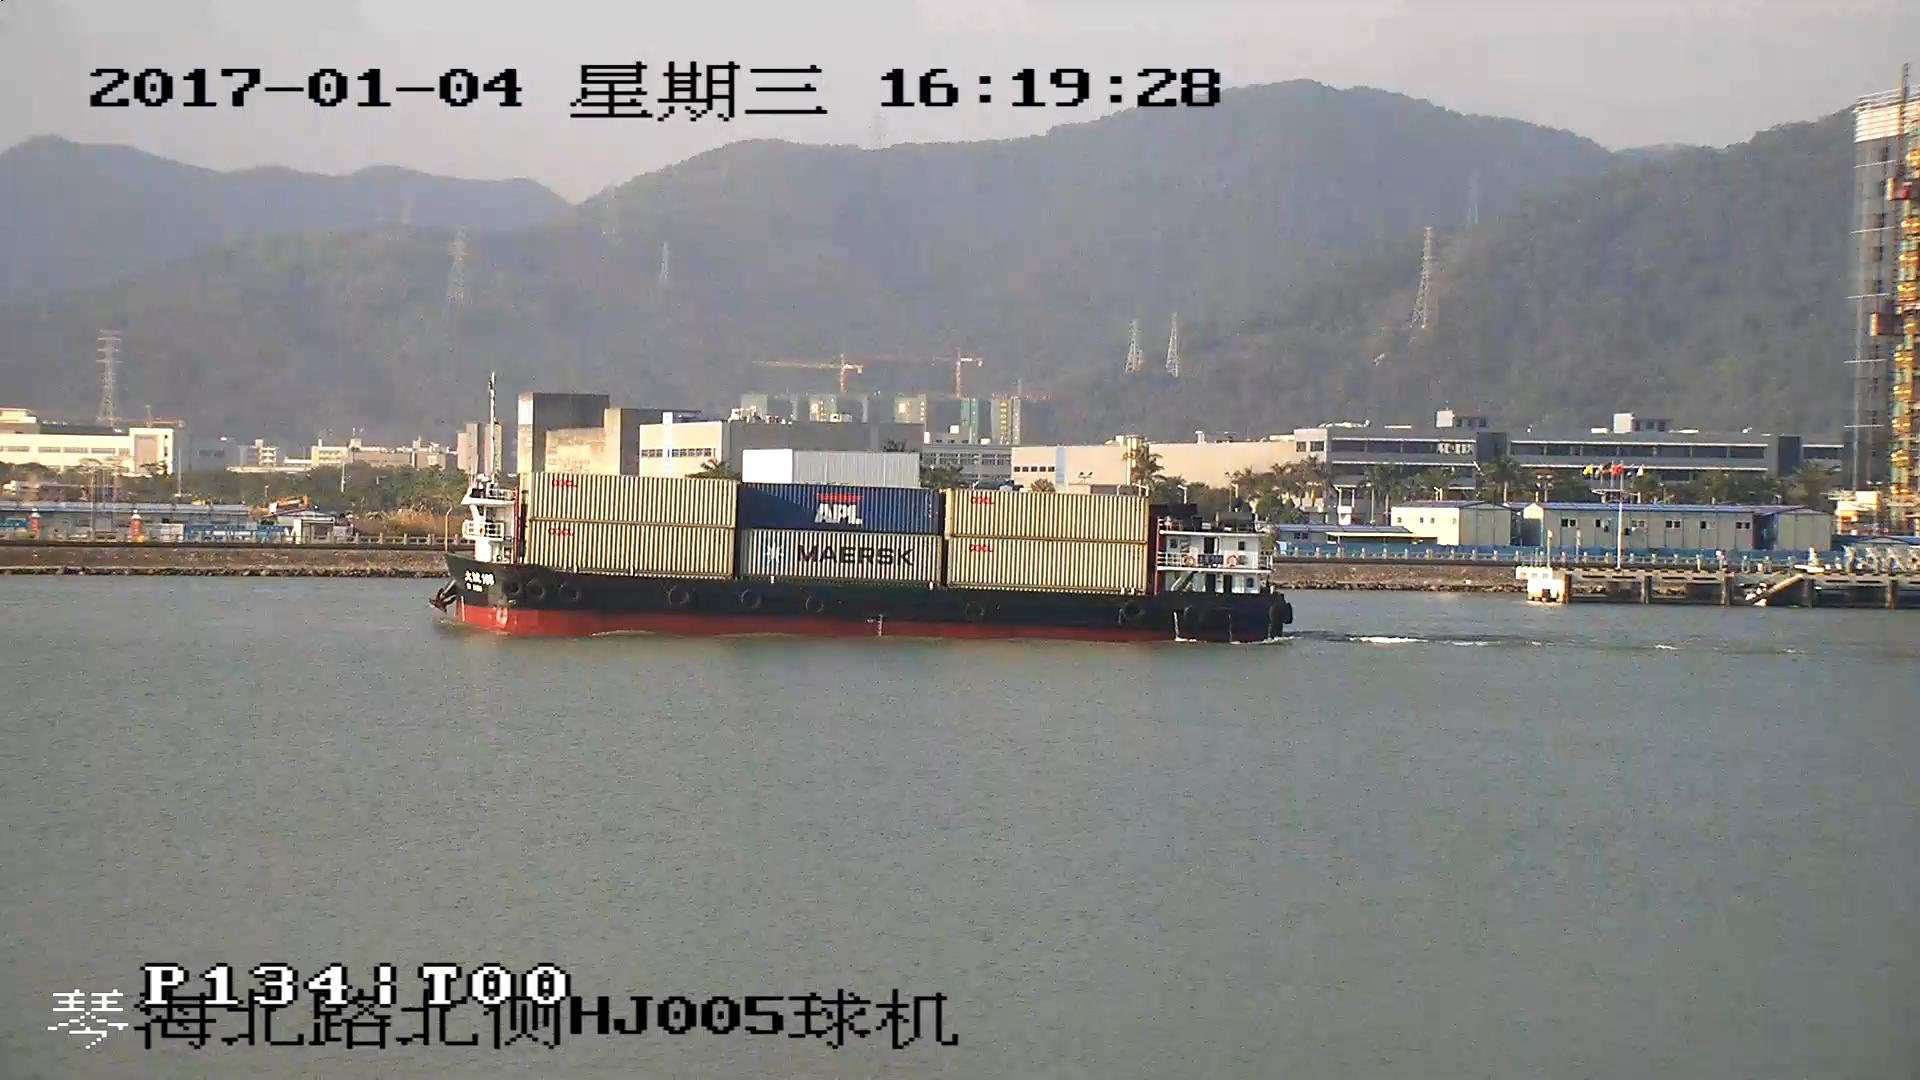container ship: (433, 468, 1293, 643)
